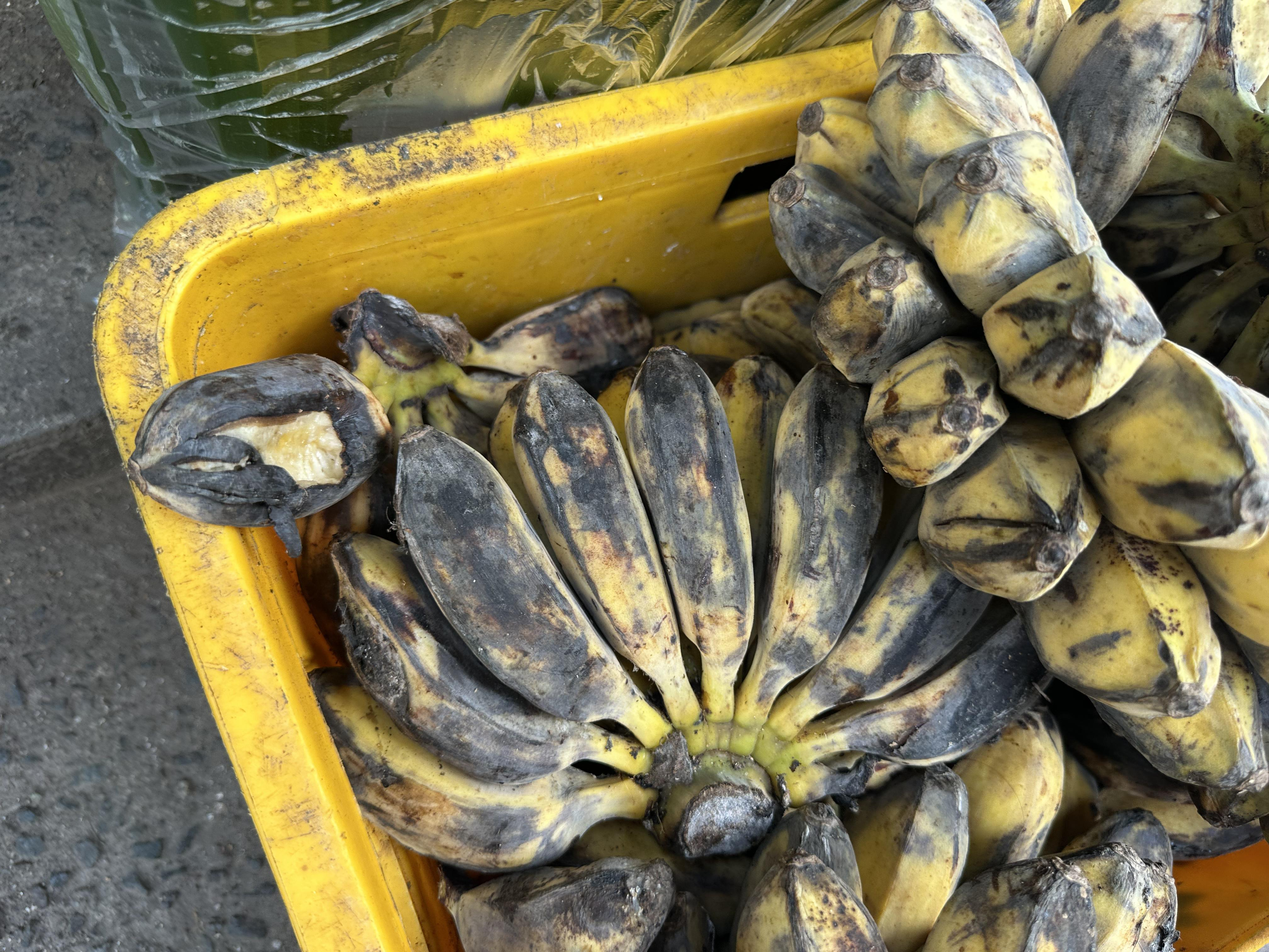overripe: (313, 347, 1041, 871)
ripe: (770, 0, 1269, 794), (735, 706, 1179, 952)
